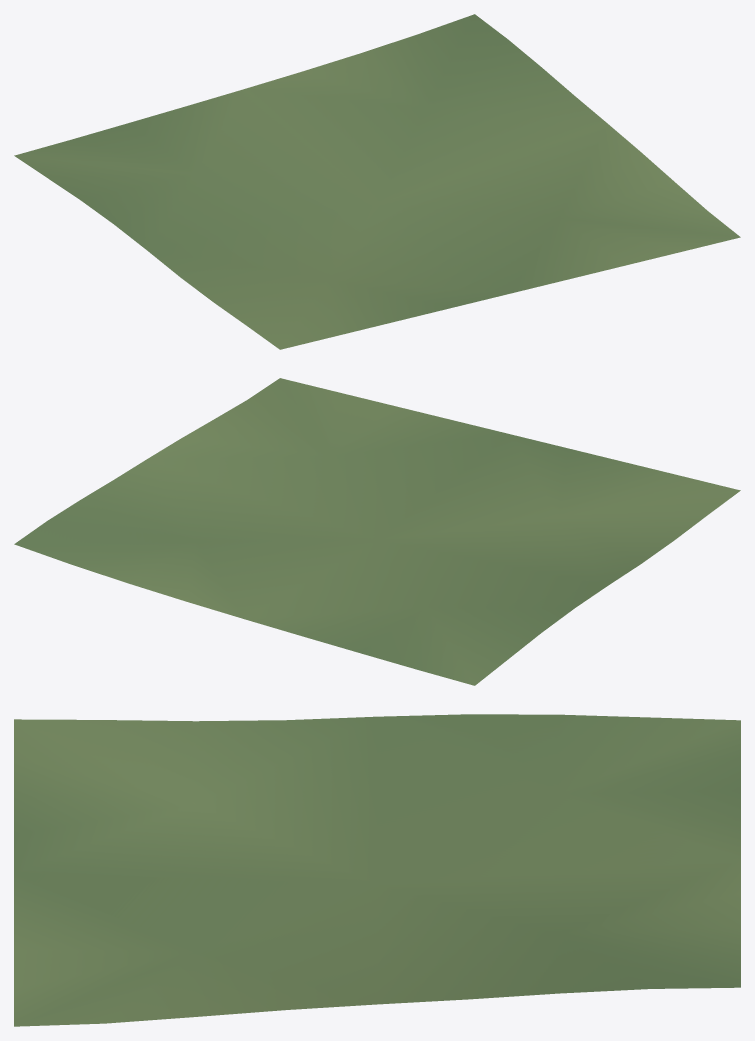
File: Terrain-4-2-4.glb
3 renders of one model, top to bottom at view 1: azimuth 30°, elevation 25°; view 2: azimuth 150°, elevation 25°; view 3: azimuth 270°, elevation 25°, orthographic. The views are drawn at different scales.
Parts seen in each view (by area): view 1: Terrain-4-2-4; view 2: Terrain-4-2-4; view 3: Terrain-4-2-4.
Boxes of the visible parts, bbox=[...] form: Terrain-4-2-4: bbox=[14, 14, 740, 349]; Terrain-4-2-4: bbox=[14, 378, 740, 685]; Terrain-4-2-4: bbox=[14, 714, 740, 1026].
Size of the model in its own units: 6 by 0.4585 by 6.
